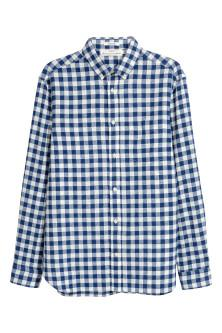teeshirt: (11, 34, 219, 301)
